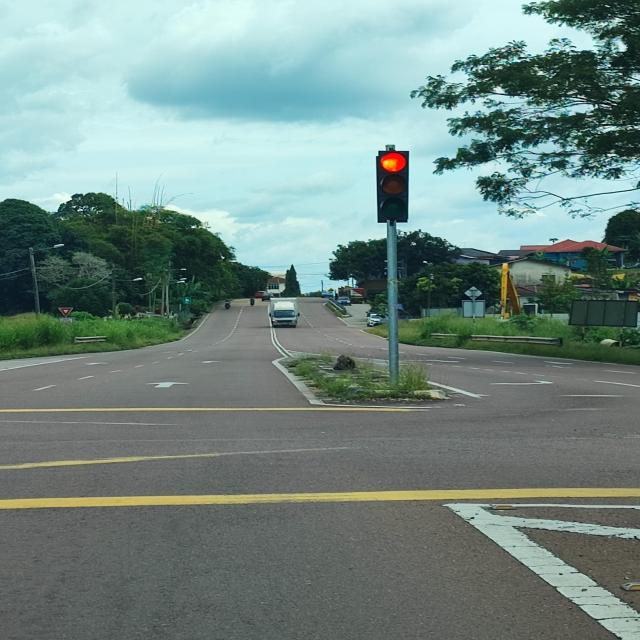car: (269, 298, 300, 328), (366, 312, 384, 327), (255, 291, 267, 299), (224, 301, 231, 310)
traffic light: (376, 150, 410, 223)
